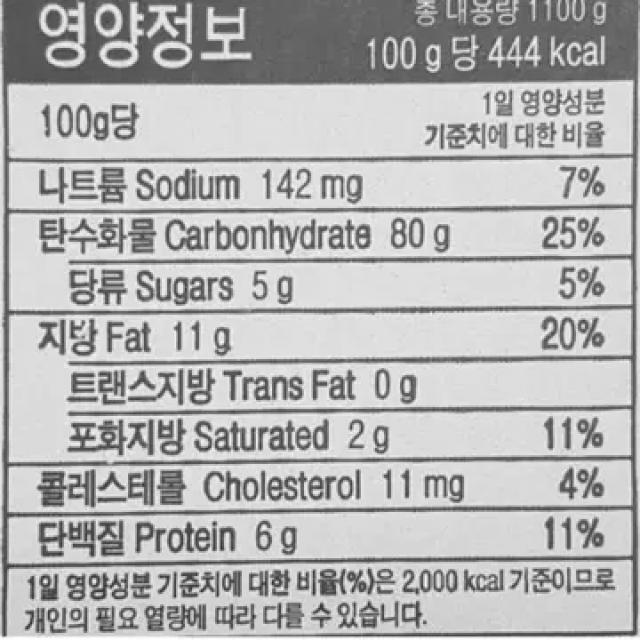Nutrition Label: (1, 0, 640, 640)
